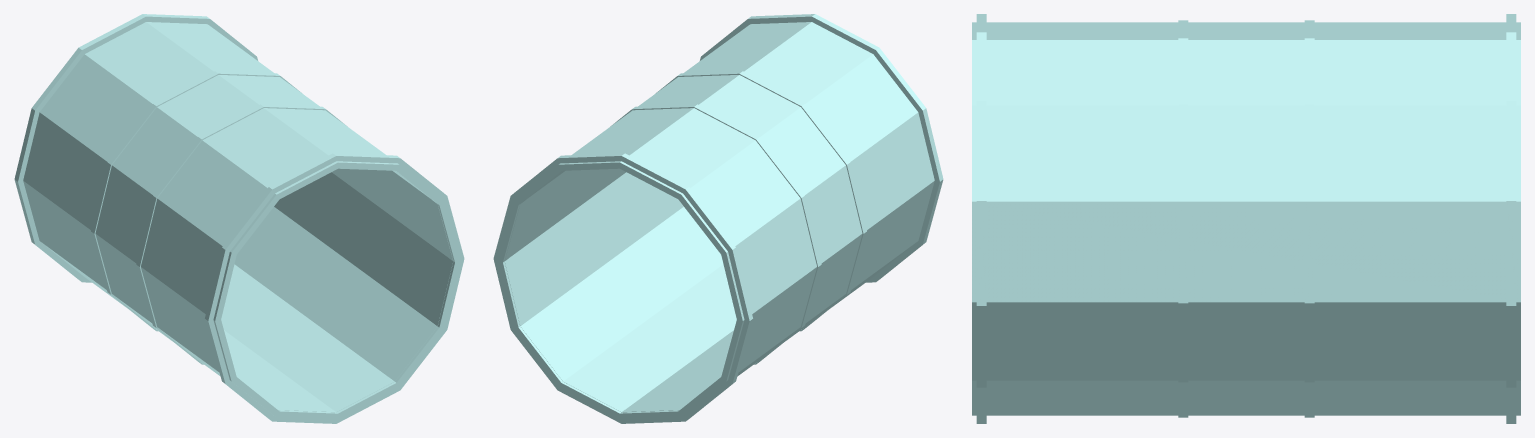
File: tube_straight_crossing.glb
3 views of the same model, side by side, from view 1: azimuth 30°, elevation 25°; view 2: azimuth 150°, elevation 25°; view 3: azimuth 270°, elevation 25° (orthographic). The views are drawn at different scales.
Visible parts, largest first — view 1: Round_Glass_Shell, Start_Collar, End_Collar, Crossing_Marker_-0, Crossing_Marker_0; view 2: Round_Glass_Shell, End_Collar, Start_Collar, Crossing_Marker_0, Crossing_Marker_-0; view 3: Round_Glass_Shell, End_Collar, Start_Collar, Crossing_Marker_0, Crossing_Marker_-0.
Boxes of the visible parts, box(x1,y1,x2,y2) form: Round_Glass_Shell: box(23, 22, 460, 419); Start_Collar: box(205, 153, 464, 423); End_Collar: box(14, 14, 257, 282); Crossing_Marker_-0: box(136, 104, 347, 364); Crossing_Marker_0: box(91, 71, 301, 331); Round_Glass_Shell: box(497, 22, 934, 419); End_Collar: box(493, 153, 752, 423); Start_Collar: box(700, 14, 943, 282); Crossing_Marker_0: box(610, 104, 821, 364); Crossing_Marker_-0: box(656, 71, 866, 331); Round_Glass_Shell: box(972, 22, 1520, 415); End_Collar: box(1506, 14, 1516, 423); Start_Collar: box(976, 14, 986, 423); Crossing_Marker_0: box(1304, 20, 1314, 417); Crossing_Marker_-0: box(1178, 20, 1188, 417).
Size of the model in its own units: 1.5 by 1.5 by 2.
Materials: 2 (2 with a texture image).
